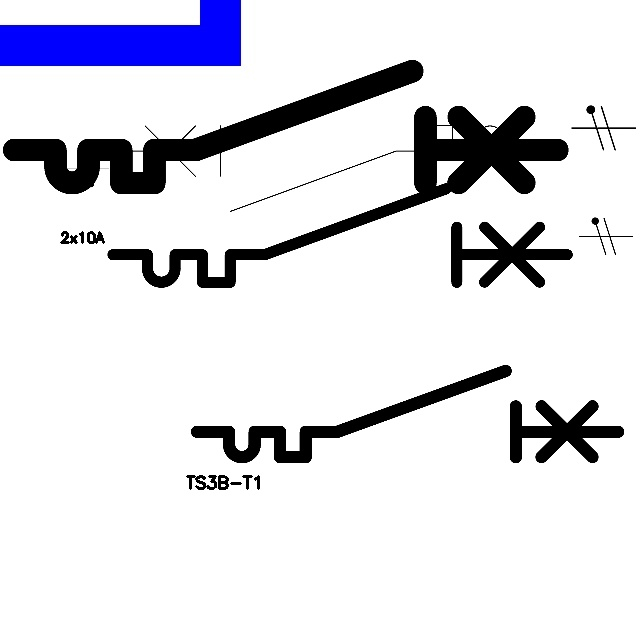interruptor_termomagnetico: (0, 57, 571, 197), (101, 177, 579, 294), (186, 360, 629, 468), (109, 115, 545, 221)
